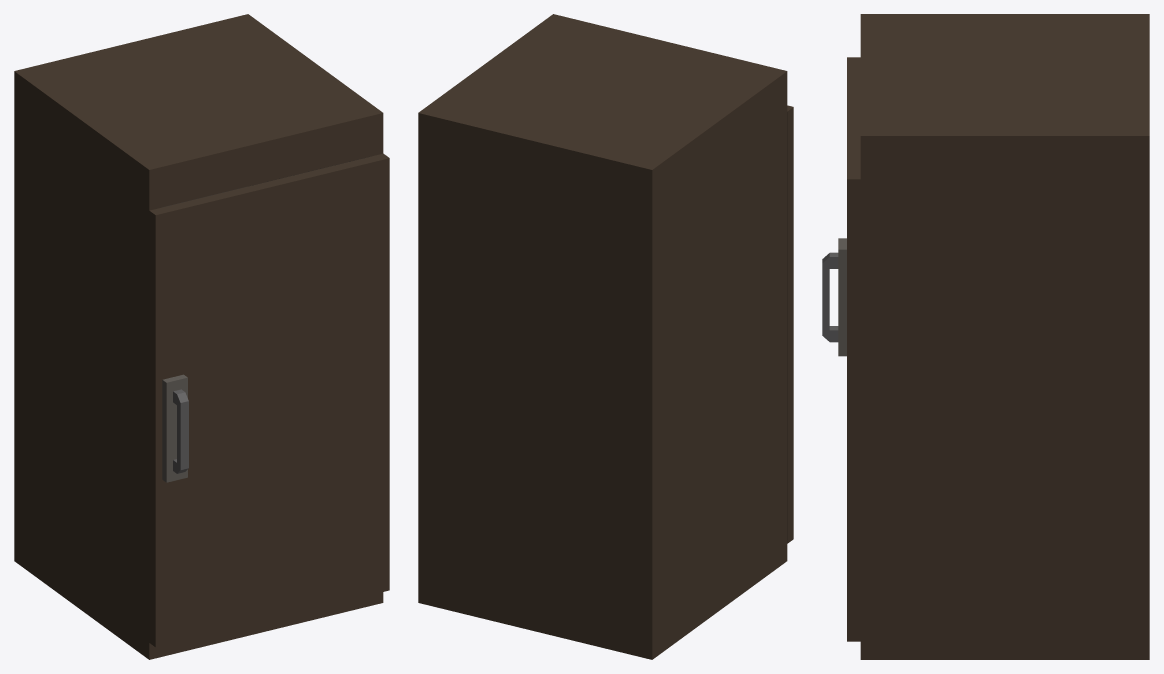
The model's file is dryingcabinets_01_F.gltf.
3 views of the same model, side by side, from view 1: azimuth 30°, elevation 25°; view 2: azimuth 150°, elevation 25°; view 3: azimuth 270°, elevation 25° (orthographic). The views are drawn at different scales.
Visible parts, largest first — view 1: dryingcabinets_01_F, Doordryingcabinets_01_F; view 2: dryingcabinets_01_F, Doordryingcabinets_01_F; view 3: dryingcabinets_01_F, Doordryingcabinets_01_F.
Part boxes in pixels (bbox=[...]): dryingcabinets_01_F: bbox=[14, 14, 383, 659]; Doordryingcabinets_01_F: bbox=[149, 153, 389, 647]; dryingcabinets_01_F: bbox=[418, 14, 787, 659]; Doordryingcabinets_01_F: bbox=[787, 105, 793, 543]; dryingcabinets_01_F: bbox=[860, 14, 1149, 659]; Doordryingcabinets_01_F: bbox=[822, 57, 860, 641].
Bounding box in the file's own units: 1 × 2 × 1.13.
1 material, 1 textured.
